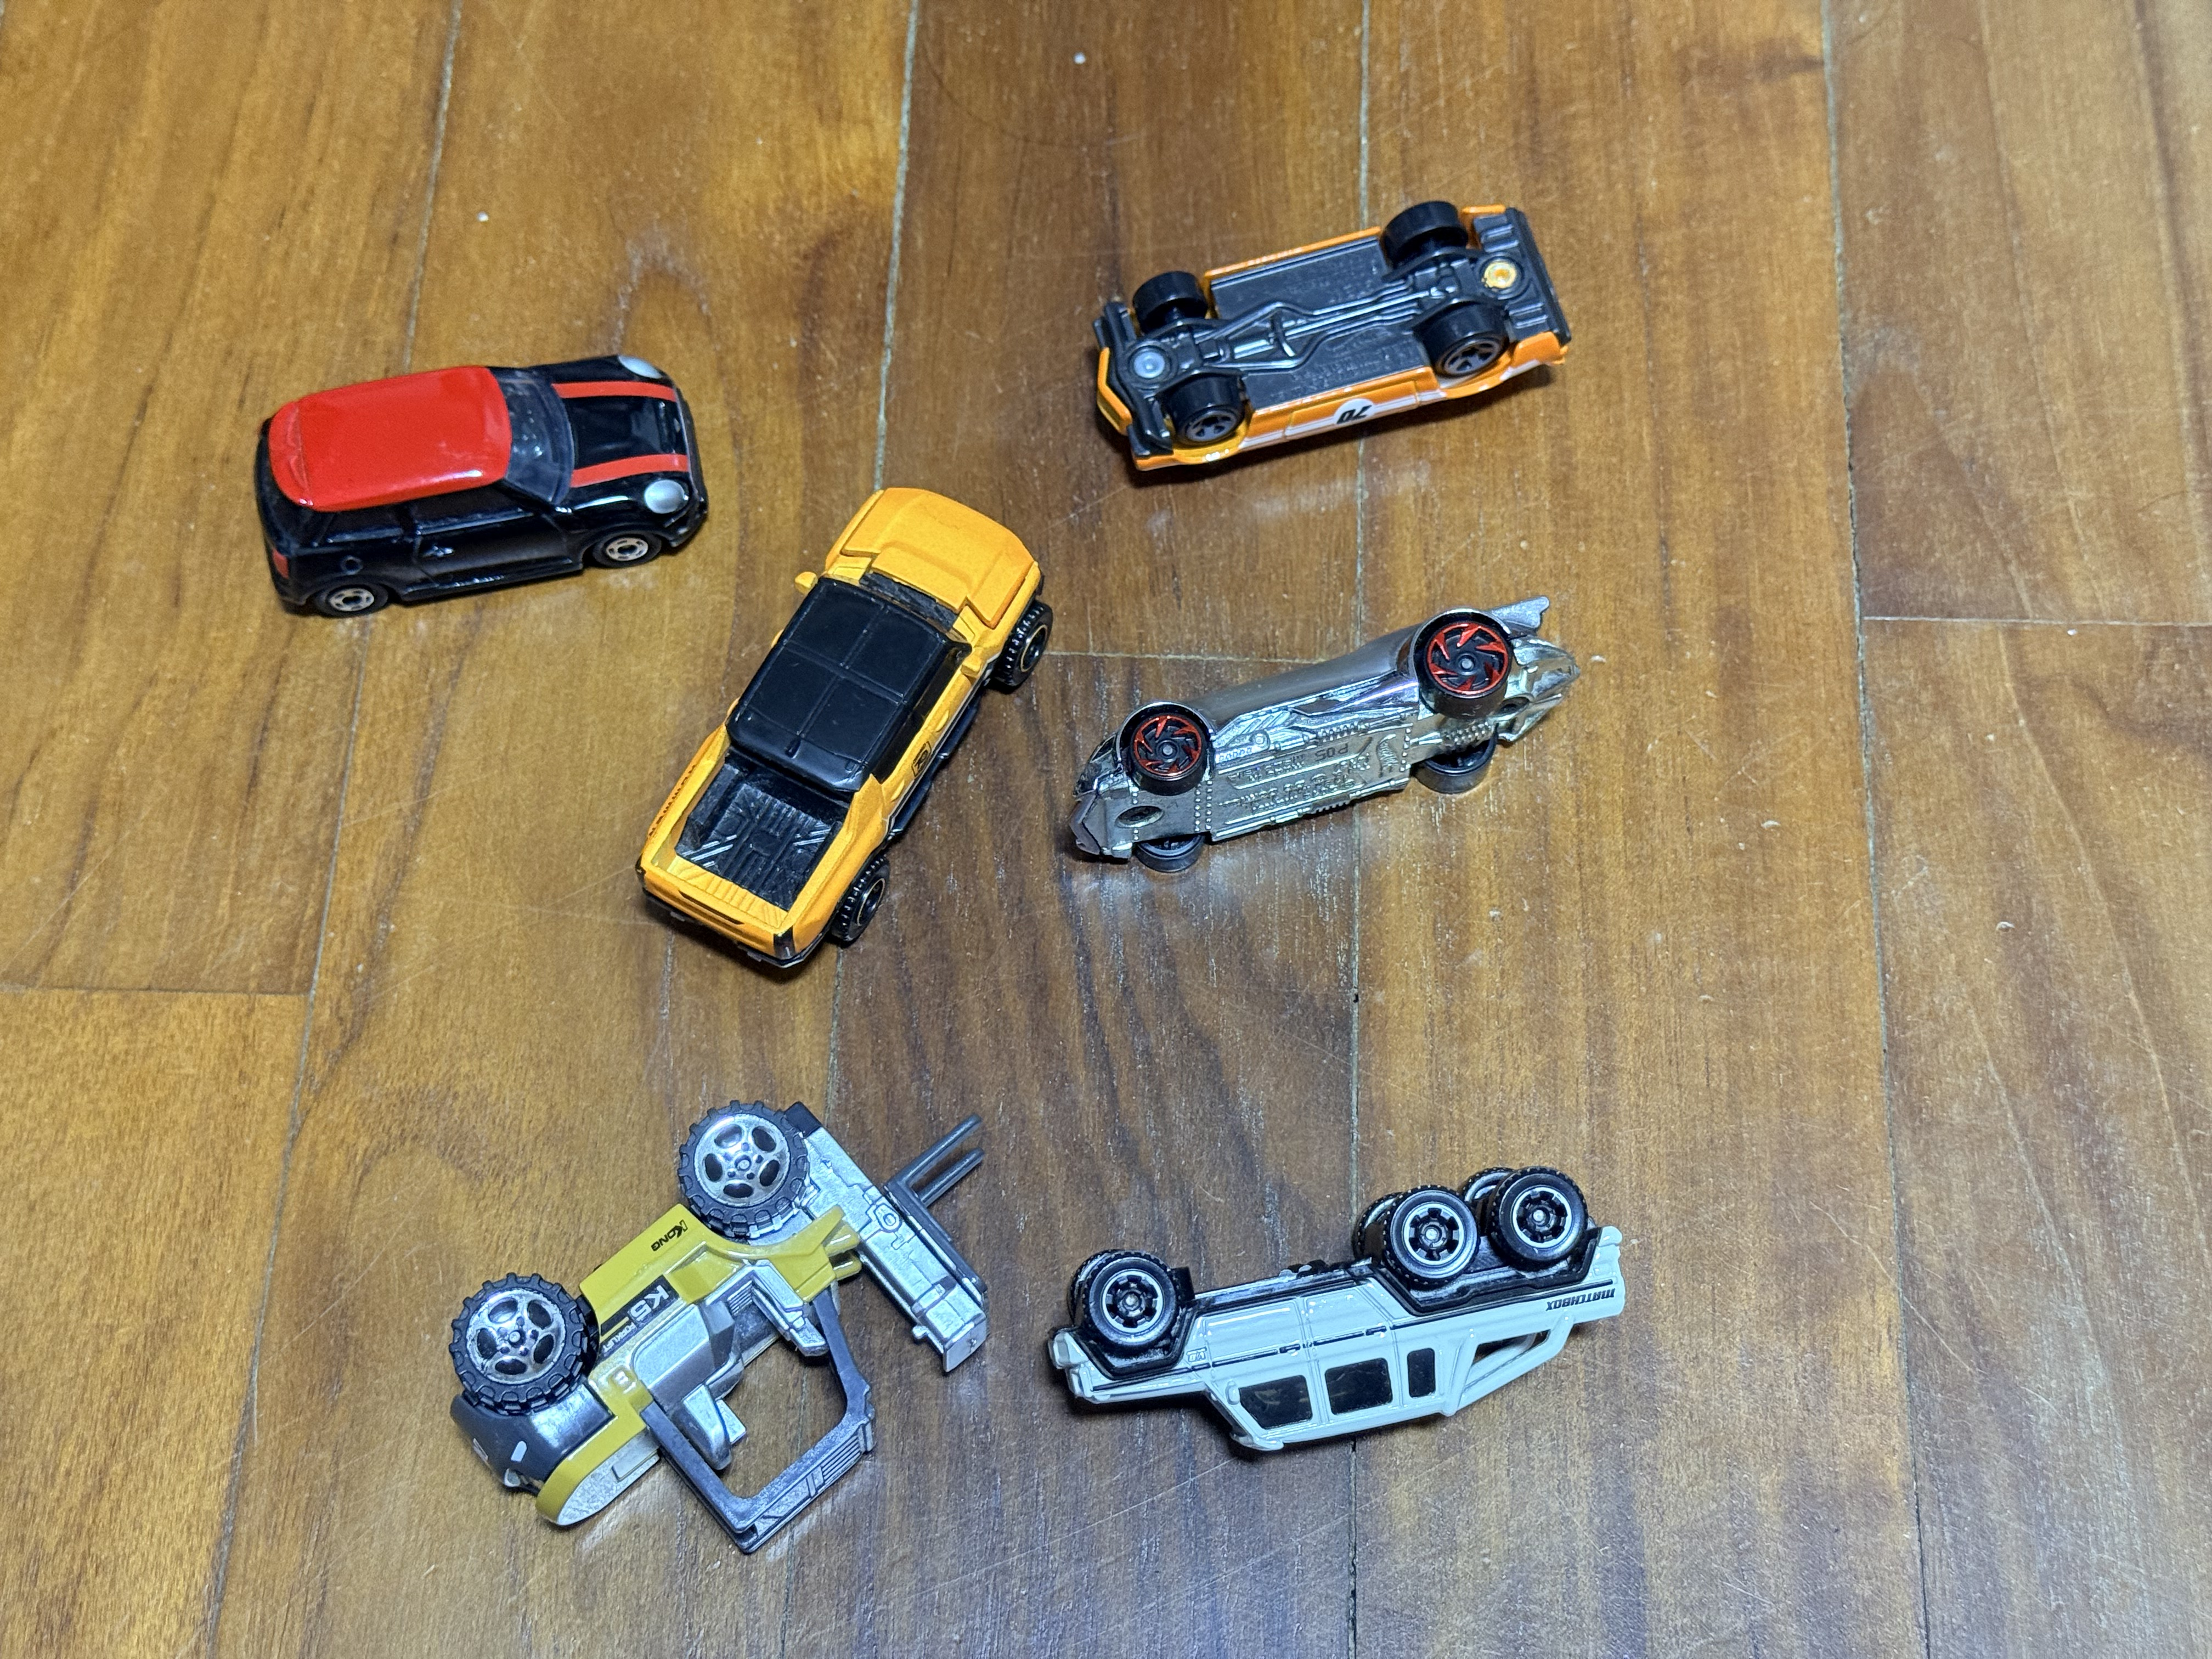camaro_rs: (1089, 193, 1573, 479)
dc_comics: (1059, 591, 1578, 875)
forklift: (446, 1093, 998, 1553)
gmc_hummer: (632, 484, 1054, 979)
mercedes_benz: (1042, 1168, 1632, 1457)
mini_cooper: (253, 345, 714, 622)
